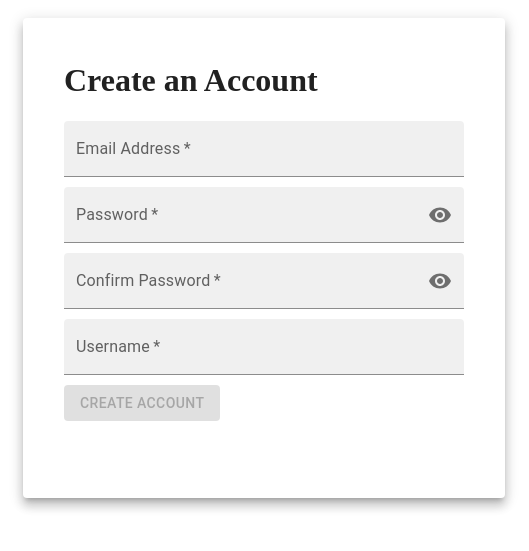
it: In account creation, › when username is touched and contains nothing, there should be error text
This screenshot has width=529, height=551.
In the field labelled "Username *": (264, 347) 64,319 -> 464,375, type "a"
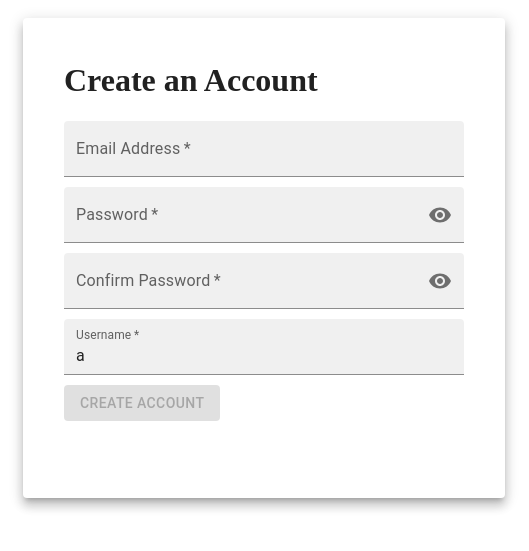
Clear the field labelled "Username *": (264, 347) 64,319 -> 464,375
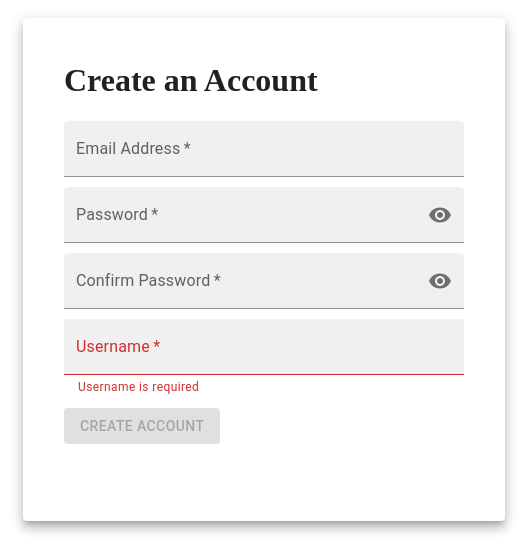
Result: the text "Username is required" is shown at 78,380 -> 199,394
